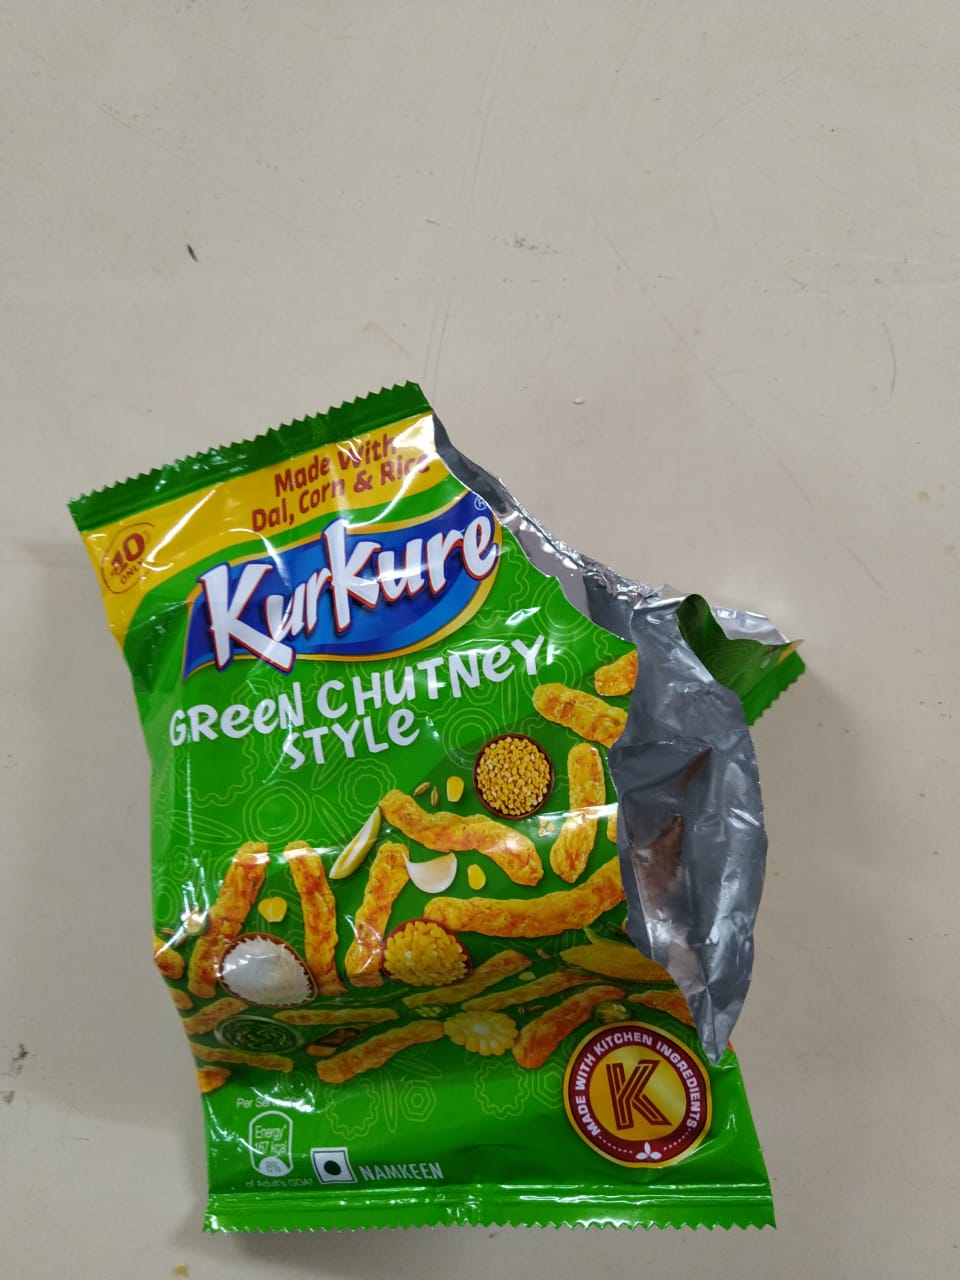kurkure: (161, 464, 559, 706), (143, 501, 443, 682), (259, 467, 557, 643)
plastic: (90, 395, 786, 1231)
wrapper: (61, 375, 794, 1237), (251, 364, 766, 1159)
